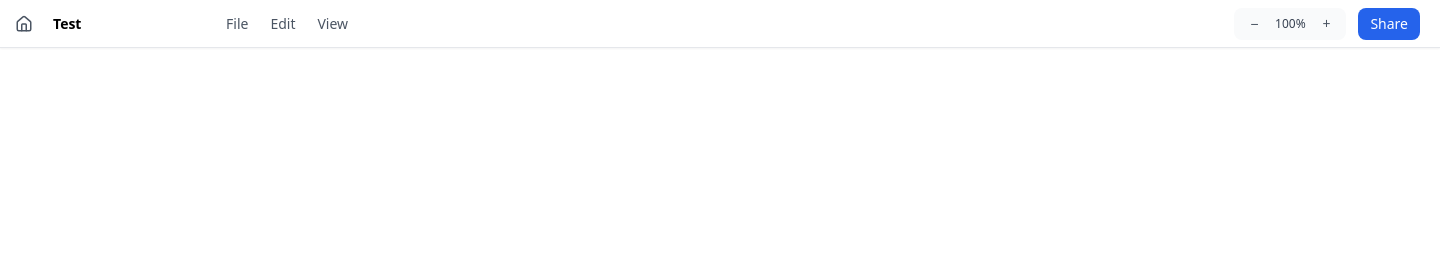
Scenario: MenuBar › opens View menu and shows menu items
Click the button "View" at (333, 24), box [308, 10, 358, 38]
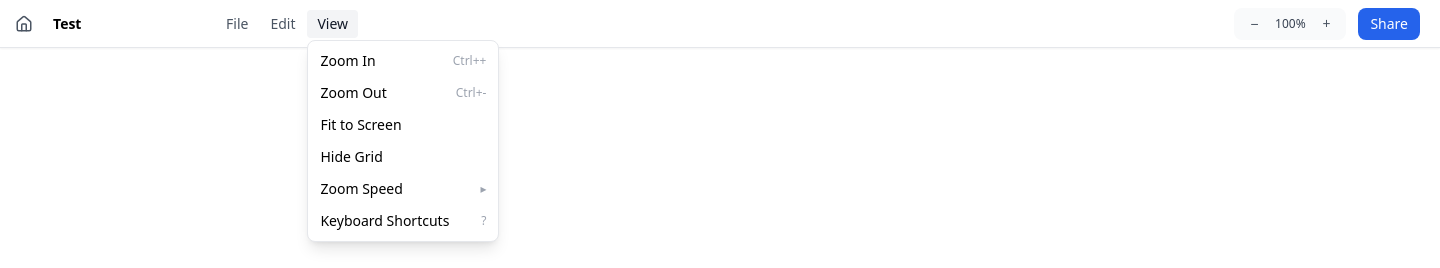
Expected: the text "Zoom In" is shown, [320, 50, 376, 70]
Expected: the text "Zoom Out" is shown, [320, 82, 387, 102]
Expected: the text "Fit to Screen" is shown, [320, 114, 402, 134]
